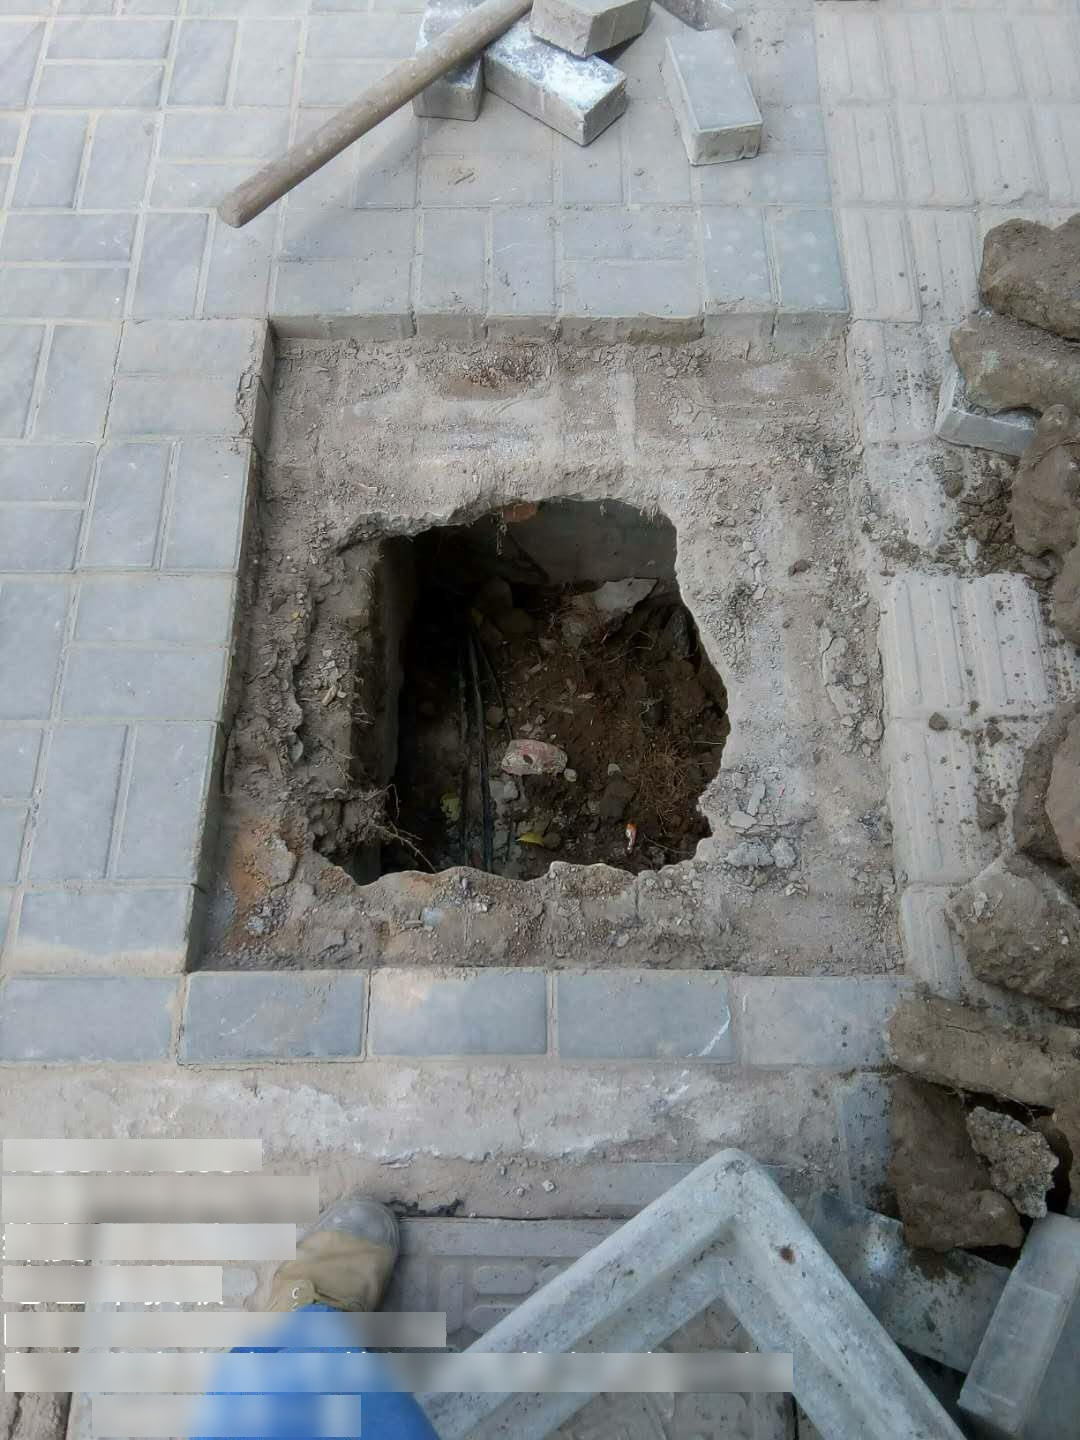lose: (185, 310, 913, 969)
